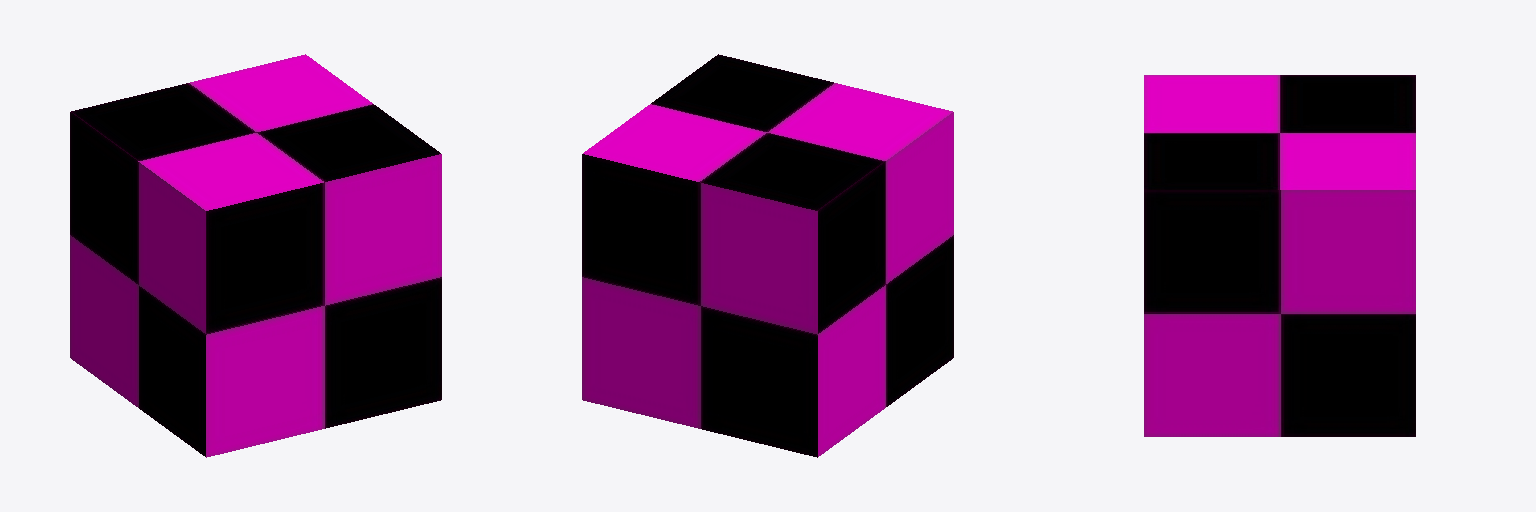
The picture shows the model from 3 angles: view 1: azimuth 30°, elevation 25°; view 2: azimuth 150°, elevation 25°; view 3: azimuth 270°, elevation 25°; orthographic projection.
Visible parts, largest first — view 1: cube; view 2: cube; view 3: cube.
Part boxes in pixels (left/top/right/bottom): cube: left=70, top=54, right=441, bottom=457; cube: left=582, top=54, right=953, bottom=457; cube: left=1144, top=75, right=1415, bottom=436.
Size of the model in its own units: 0.125 by 0.125 by 0.125.
Materials: 1 (1 with a texture image).